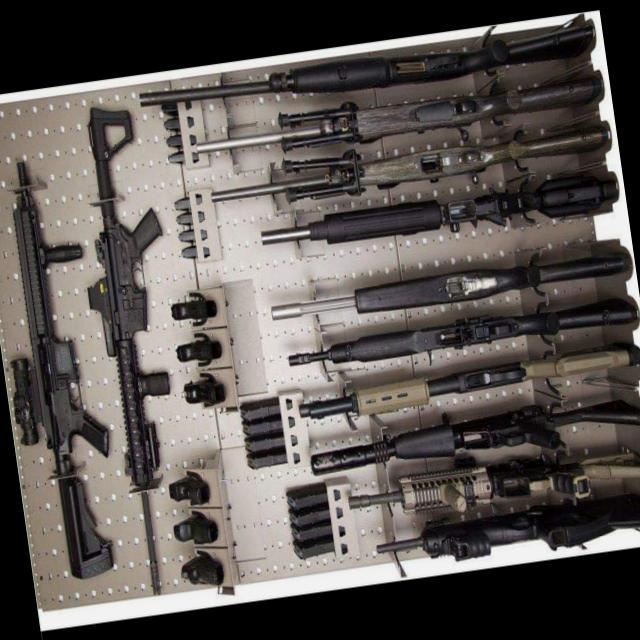long weapon: (64, 76, 218, 631), (0, 136, 134, 615), (135, 6, 606, 126), (260, 224, 638, 340), (254, 154, 627, 264), (343, 431, 639, 525), (365, 490, 639, 582)
